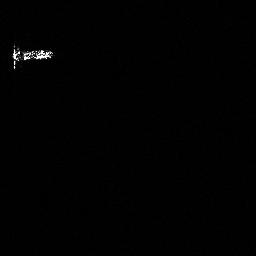ship: (9, 43, 54, 71)
